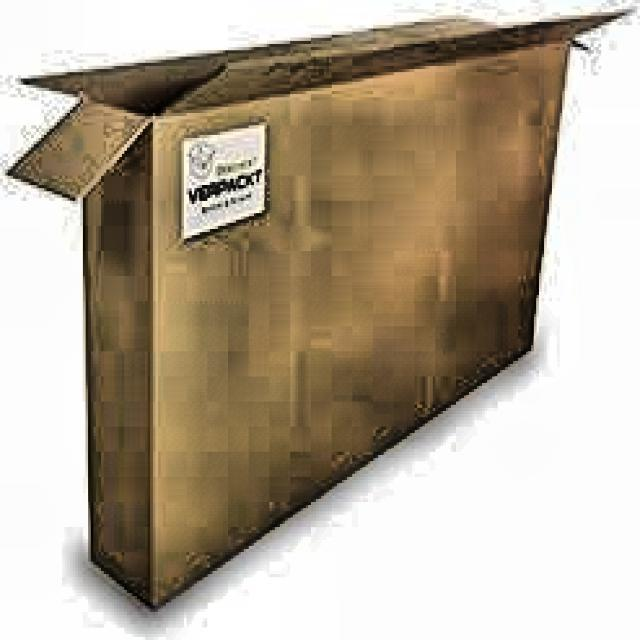cardboard: (2, 3, 632, 612)
